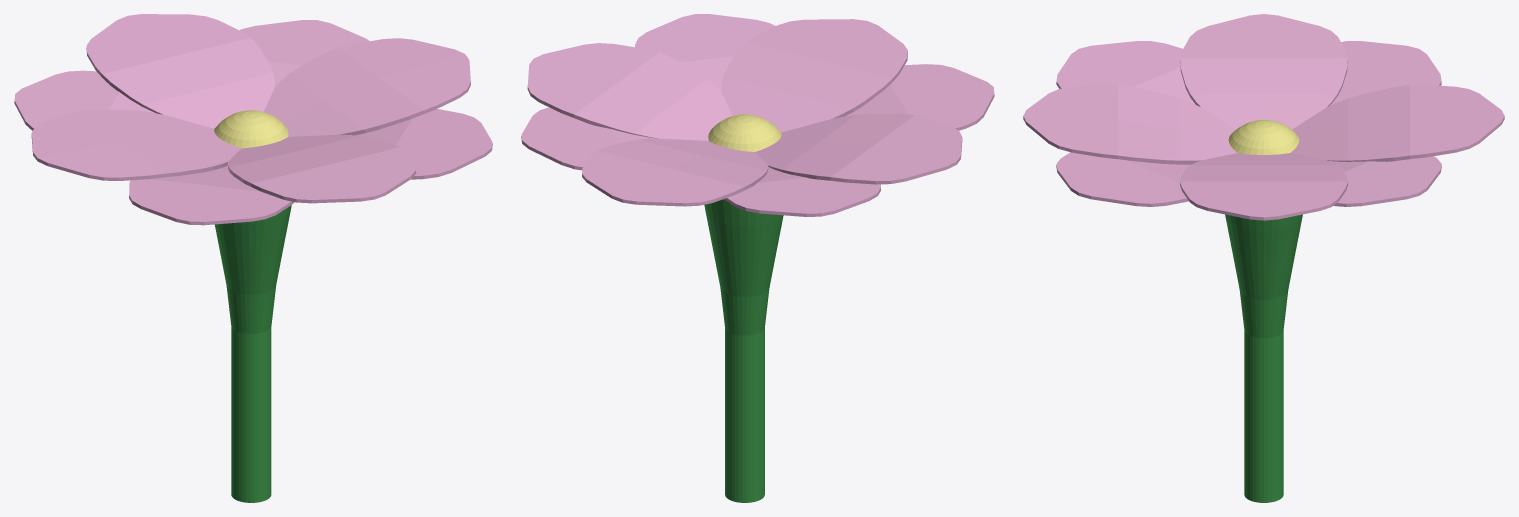
Rendered from Flower.fbx.
3 renders of one model, left to right at view 1: azimuth 30°, elevation 25°; view 2: azimuth 150°, elevation 25°; view 3: azimuth 270°, elevation 25°, orthographic. The views are drawn at different scales.
Visible parts, largest first — view 1: Cylinder; view 2: Cylinder; view 3: Cylinder.
Part boxes in pixels (<box>): Cylinder: <box>14,14,492,502</box>; Cylinder: <box>521,14,994,502</box>; Cylinder: <box>1023,14,1504,502</box>.
Bounding box in the file's own units: 391 × 340 × 391.
